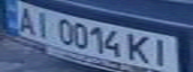0: (51, 16, 75, 46), (69, 19, 90, 49)
1: (87, 24, 106, 54)
4: (103, 27, 127, 58)
A: (9, 3, 42, 35)
I: (148, 36, 178, 68), (30, 10, 57, 38)
K: (124, 31, 154, 64)
